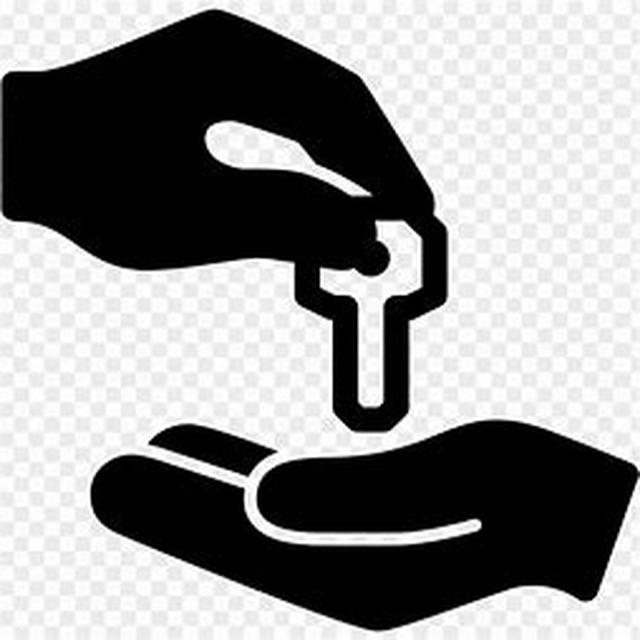key: (286, 191, 449, 441)
